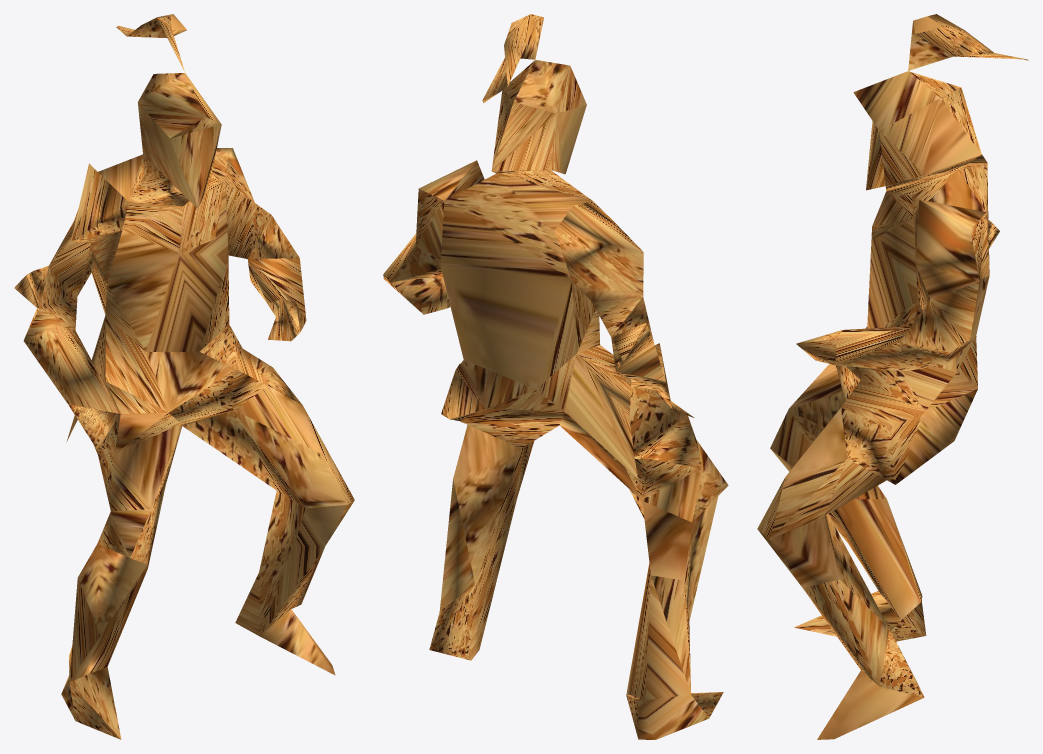
File: ae_knight_rider_bronze_lod1.glb
3 views of the same model, side by side, from view 1: azimuth 30°, elevation 25°; view 2: azimuth 150°, elevation 25°; view 3: azimuth 270°, elevation 25° (orthographic). The views are drawn at different scales.
Visible parts, largest first — view 1: output_unwrapped; view 2: output_unwrapped; view 3: output_unwrapped.
Boxes of the visible parts, x1,y1,x2,y2 form: output_unwrapped: (14,14,354,739); output_unwrapped: (383,14,728,739); output_unwrapped: (757,14,1028,739).
Bounding box in the file's own units: 0.7999 × 1.9 × 0.6969.
1 material, 1 textured.
